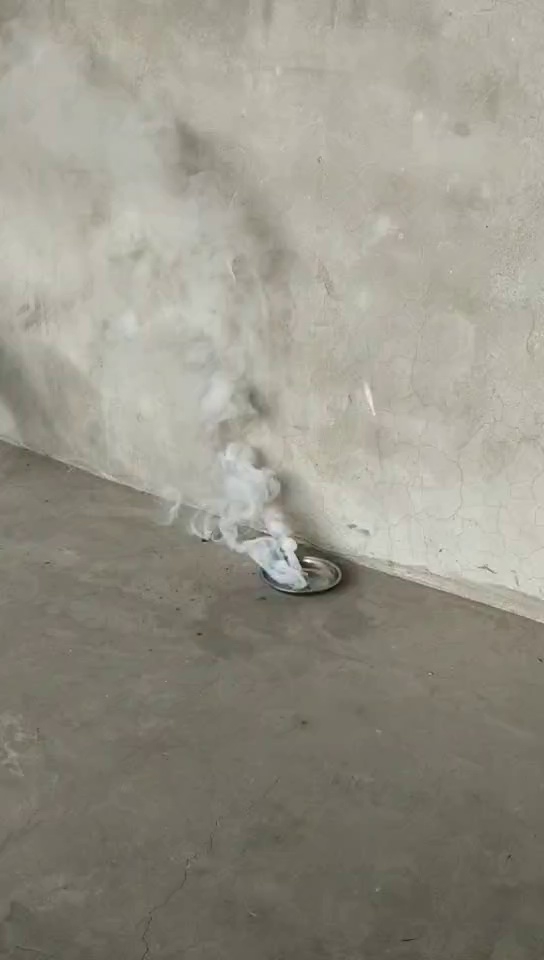smoke: (102, 257, 303, 587)
